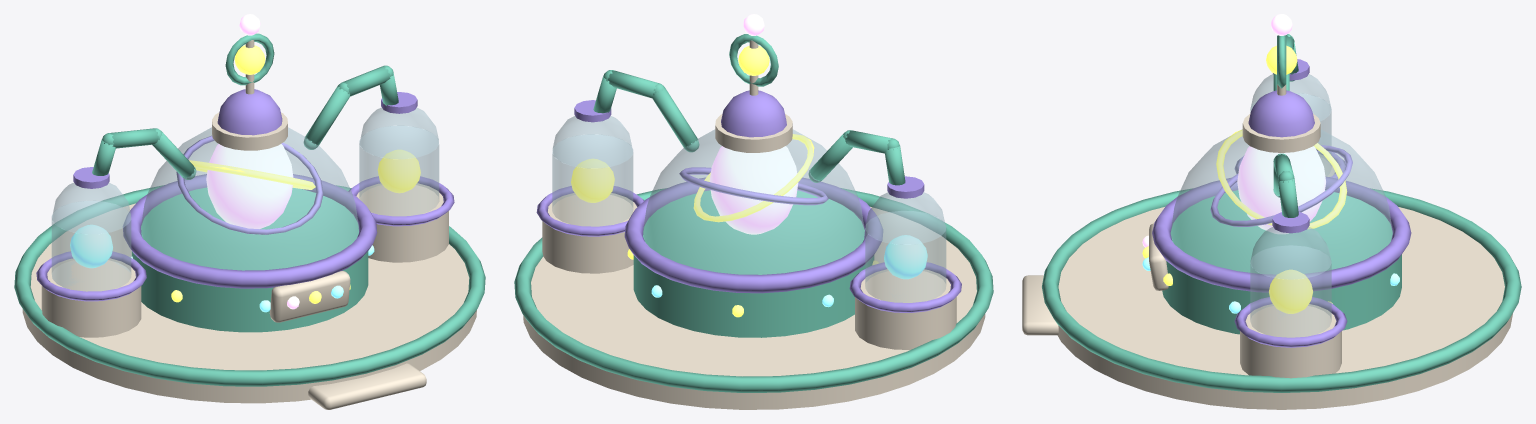
File: breeding.glb
3 views of the same model, side by side, from view 1: azimuth 30°, elevation 25°; view 2: azimuth 150°, elevation 25°; view 3: azimuth 270°, elevation 25° (orthographic).
Parts seen in each view (by area): view 1: breeding; view 2: breeding; view 3: breeding.
Boxes of the visible parts, box(x1,y1,x2,y2) form: breeding: box(14, 14, 485, 409); breeding: box(514, 14, 993, 409); breeding: box(1022, 14, 1521, 409).
Bounding box in the file's own units: 5.18 × 3.54 × 5.39.
